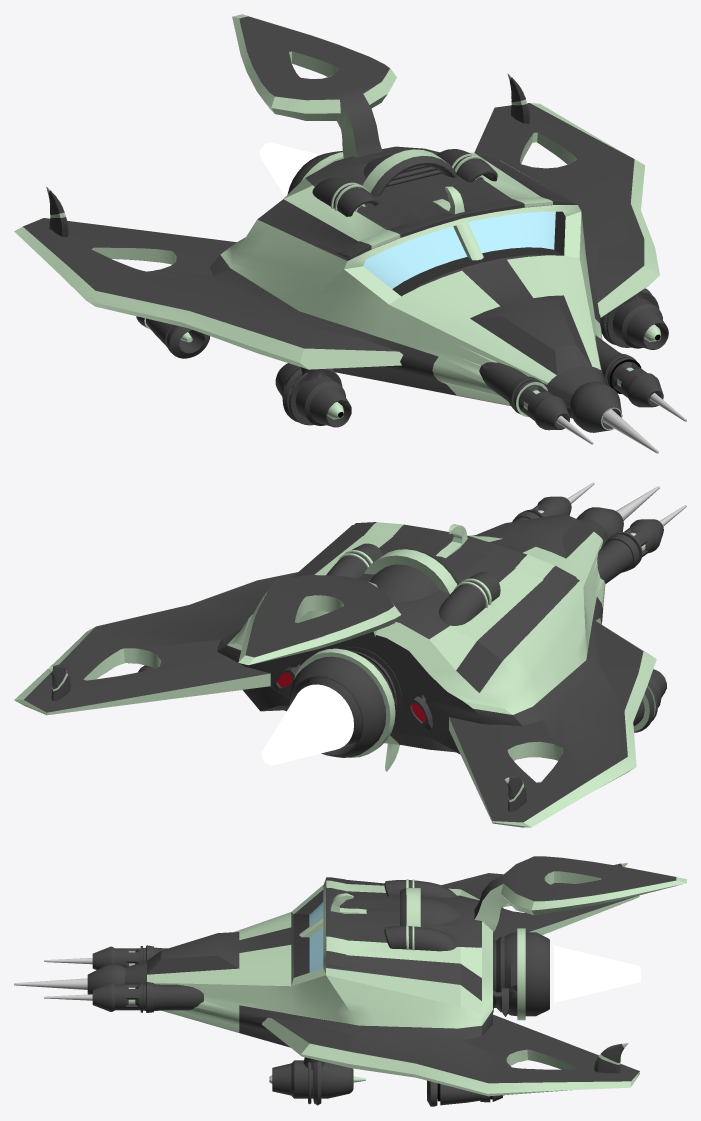
The model's file is spaceship.glb.
3 renders of one model, top to bottom at view 1: azimuth 30°, elevation 25°; view 2: azimuth 150°, elevation 25°; view 3: azimuth 270°, elevation 25°, orthographic. The views are drawn at different scales.
Visible parts, largest first — view 1: Cube.003, Cylinder; view 2: Cube.003, Cylinder; view 3: Cube.003, Cylinder.
Part boxes in pixels (left/top/right/bottom): Cube.003: left=14, top=14, right=686, bottom=453; Cylinder: left=259, top=142, right=319, bottom=196; Cube.003: left=14, top=482, right=686, bottom=827; Cylinder: left=261, top=684, right=353, bottom=765; Cube.003: left=14, top=856, right=686, bottom=1106; Cylinder: left=554, top=945, right=641, bottom=1002.
Bounding box in the file's own units: 3.63 × 1.36 × 4.75.
